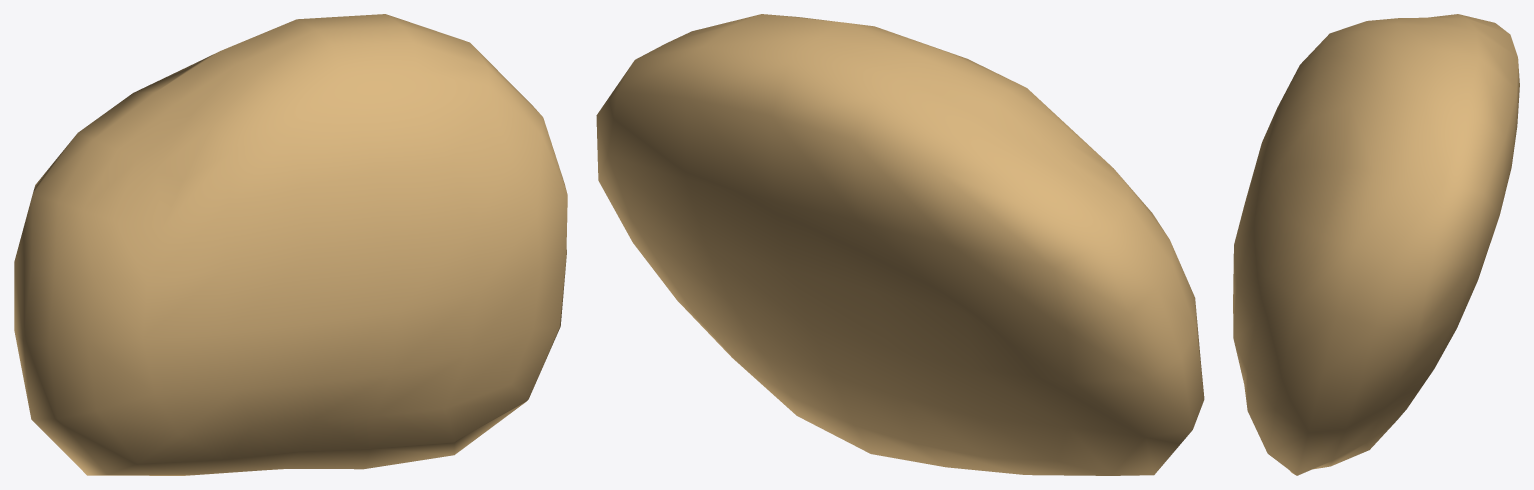
The model's file is labrum_left_lower.obj.
3 views of the same model, side by side, from view 1: azimuth 30°, elevation 25°; view 2: azimuth 150°, elevation 25°; view 3: azimuth 270°, elevation 25° (orthographic). The views are drawn at different scales.
Bounding box in the file's own units: 0.0252 × 0.0183 × 0.012.
